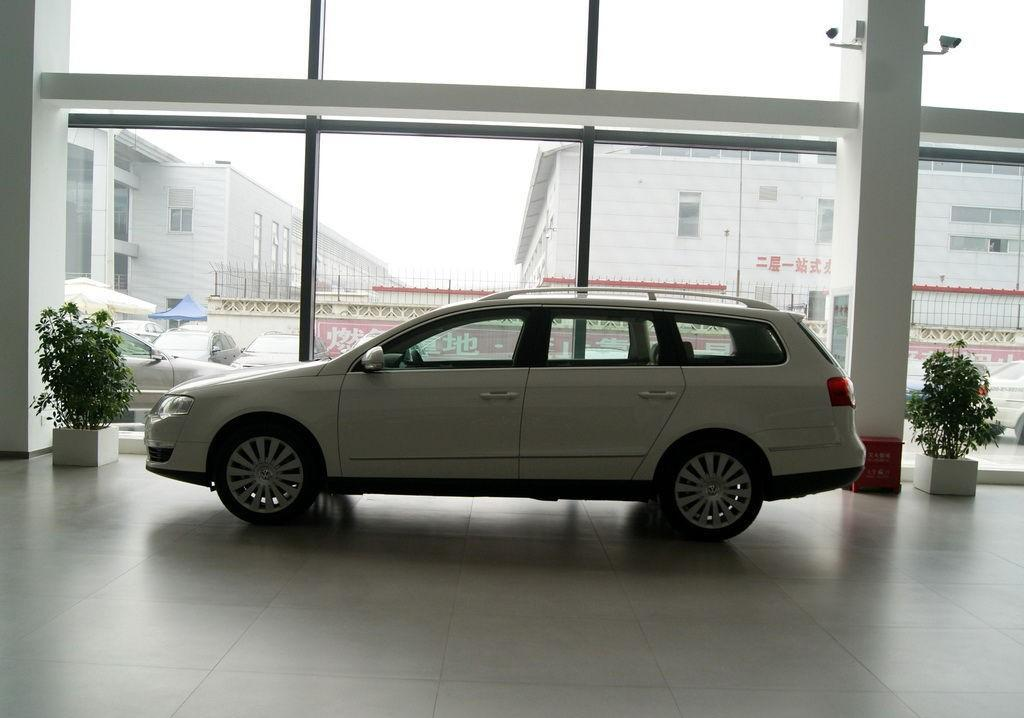Wagon: (142, 288, 867, 540)
